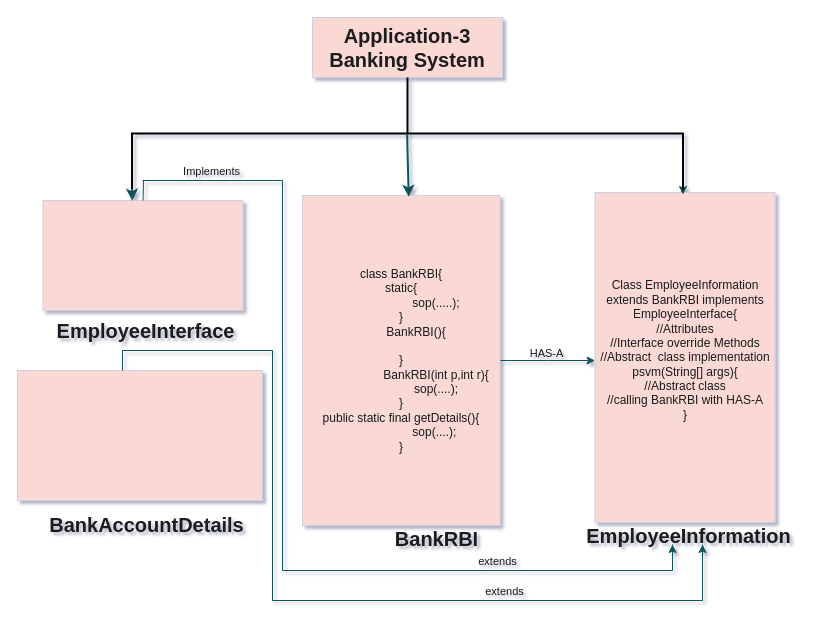
The diagram is 826 pixels wide and 632 high, and some of its shapes have lost their labels. The centre of each missing label's shape, as x and y in pixels:
"1.Abstract method . AccountDetails() 2.Implemented Method . BankDetails()" belongs at point 139,435.
"EmployeeInfo() EmployeeAddress() EmployeeDetails()" belongs at point 142,255.
